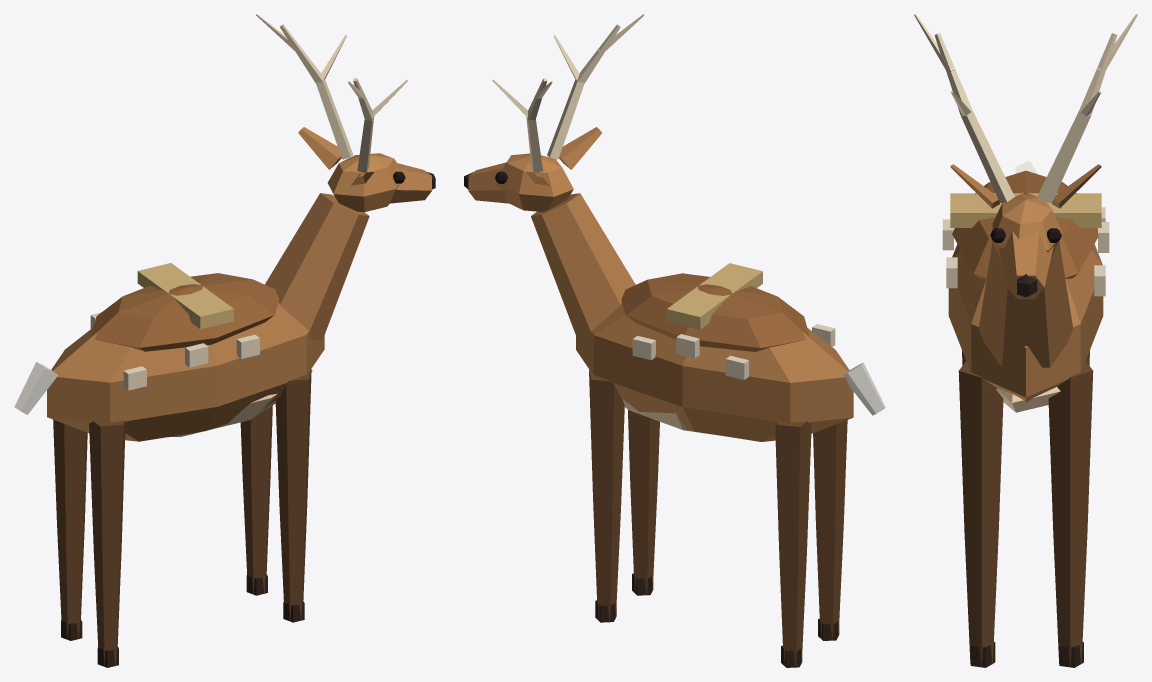
File: deer.glb
3 renders of one model, left to right at view 1: azimuth 30°, elevation 25°; view 2: azimuth 150°, elevation 25°; view 3: azimuth 270°, elevation 25°, orthographic. The views are drawn at different scales.
Visible parts, largest first — view 1: body, pet_armor, head, leg_br, leg_fr, leg_bl, leg_fl, tail; view 2: body, pet_armor, head, leg_bl, leg_fl, leg_br, leg_fr, tail; view 3: body, head, leg_fr, leg_fl, pet_armor.
Boxes of the visible parts, box(x1,y1,x2,y2) form: body: box(47, 193, 369, 441); pet_armor: box(91, 263, 279, 351); head: box(256, 14, 435, 212); leg_br: box(89, 420, 125, 667); leg_fr: box(275, 369, 311, 622); leg_bl: box(53, 419, 87, 640); leg_fl: box(240, 405, 272, 595); tail: box(14, 362, 58, 414); body: box(531, 193, 853, 441); pet_armor: box(621, 263, 809, 351); head: box(464, 14, 644, 211); leg_bl: box(775, 421, 811, 667); leg_fl: box(589, 369, 624, 622); leg_br: box(813, 420, 847, 640); leg_fr: box(628, 410, 659, 595); tail: box(843, 362, 885, 415); body: box(942, 207, 1109, 412); head: box(914, 14, 1137, 299); leg_fr: box(958, 361, 1003, 667); leg_fl: box(1048, 361, 1093, 667); pet_armor: box(950, 170, 1101, 278).
Bounding box in the file's own units: 1.58 × 1.98 × 0.605.
